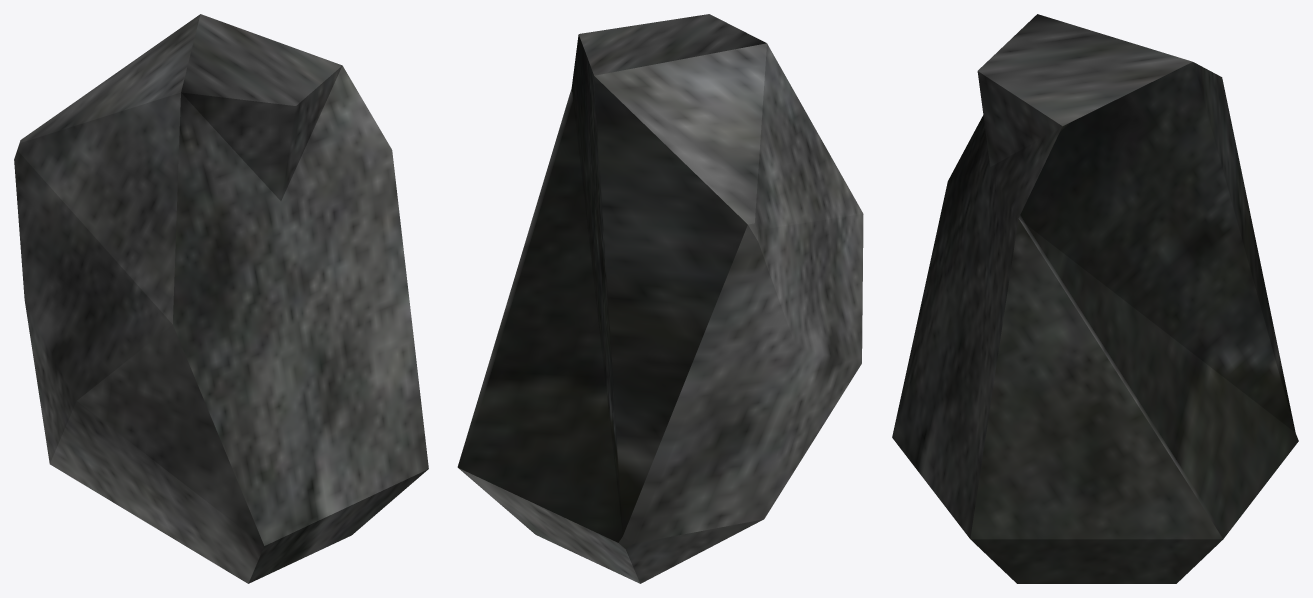
Rendered from Rock2.fbx.
3 renders of one model, left to right at view 1: azimuth 30°, elevation 25°; view 2: azimuth 150°, elevation 25°; view 3: azimuth 270°, elevation 25°, orthographic. The views are drawn at different scales.
Visible parts, largest first — view 1: Rock3; view 2: Rock3; view 3: Rock3.
Boxes of the visible parts, bbox=[...] form: Rock3: bbox=[14, 14, 428, 583]; Rock3: bbox=[457, 14, 863, 583]; Rock3: bbox=[892, 14, 1298, 583].
Size of the model in its own units: 155 by 224 by 169.
